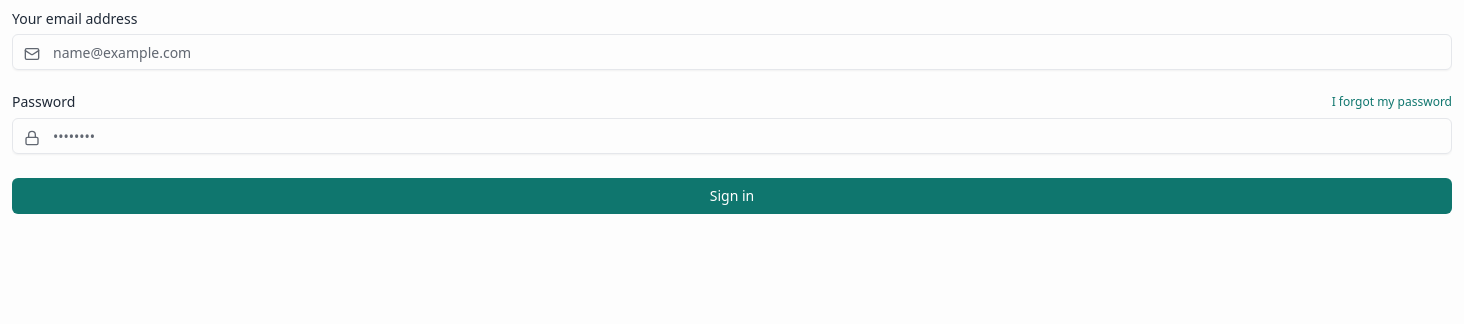
Test case: LoginForm two-factor challenge › offers a challenge when the server asks for a second factor
Type "member@test.com" into the field labelled "Your email address" at (732, 52), box [12, 34, 1452, 70]
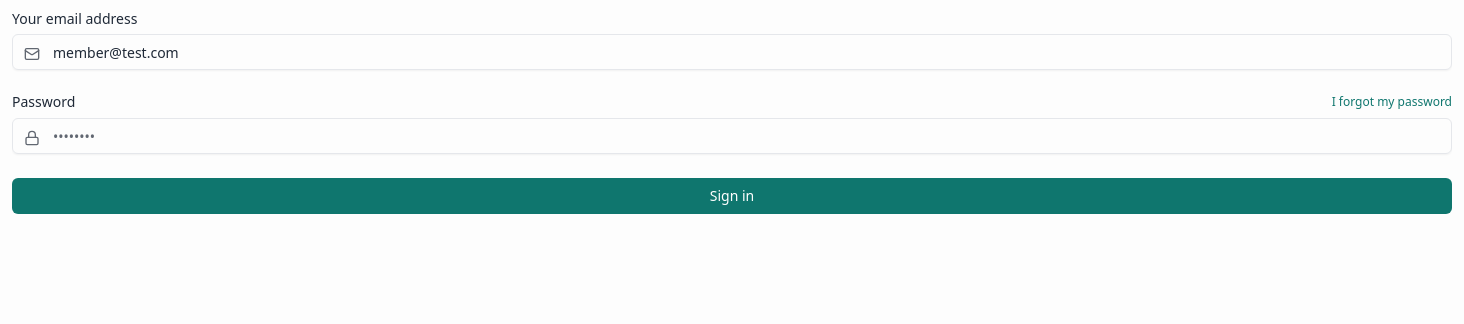
Type "Passw0rd!xyz" into the password field labelled "Password" at (732, 136), box [12, 118, 1452, 154]
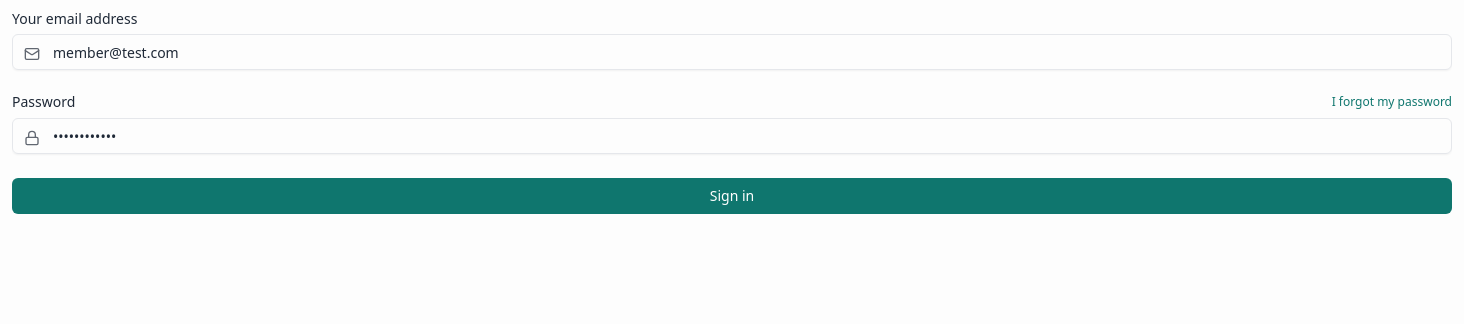
Click the button "Sign in" at (732, 196), box [12, 178, 1452, 214]
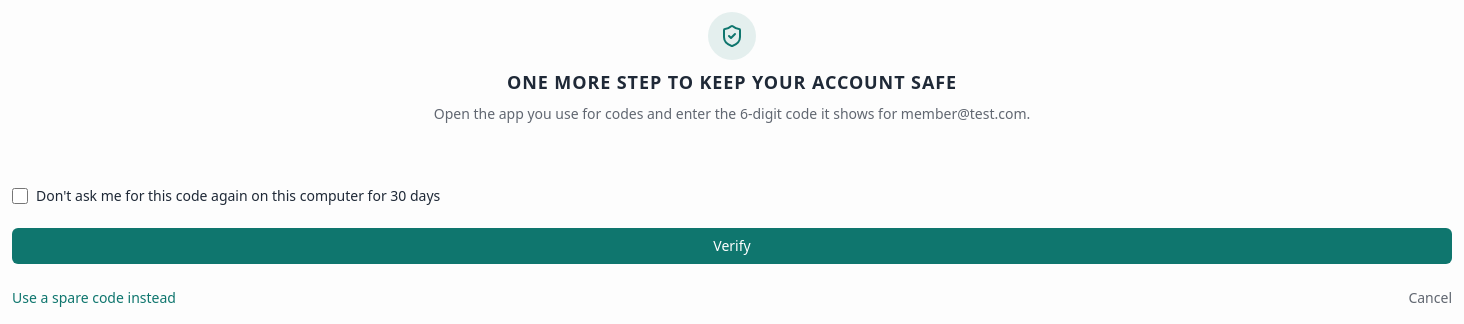
expect the heading "One more step to keep your account safe" is shown: met, box [507, 70, 957, 94]
